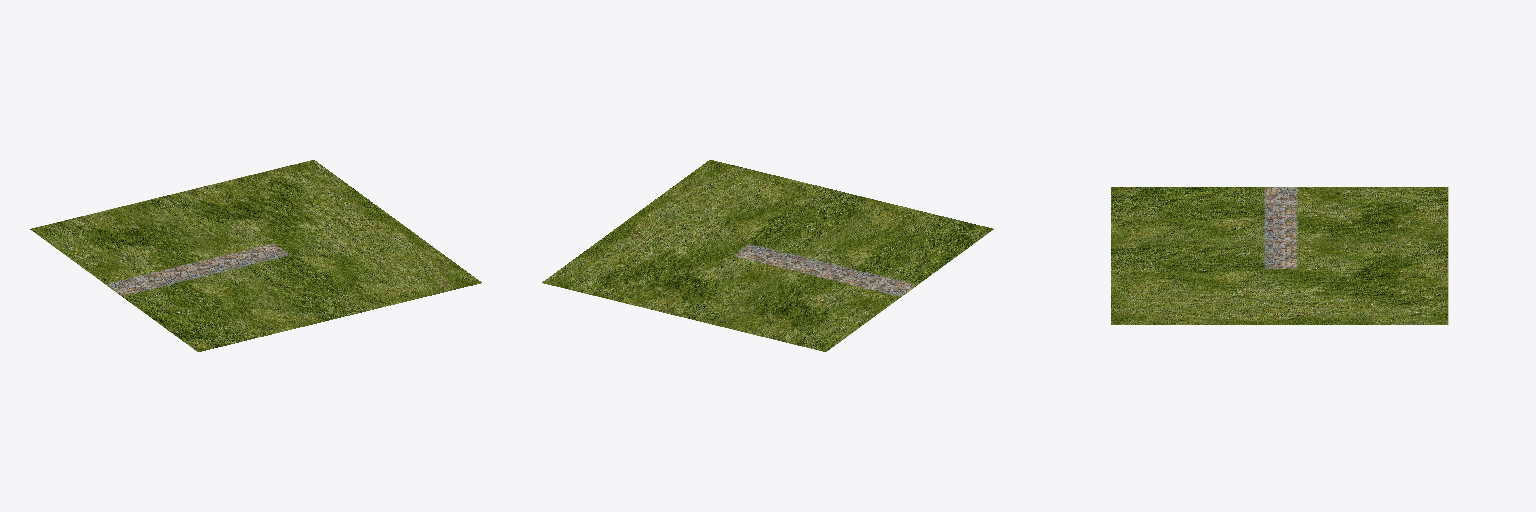
3 views of the same model, side by side, from view 1: azimuth 30°, elevation 25°; view 2: azimuth 150°, elevation 25°; view 3: azimuth 270°, elevation 25° (orthographic).
Parts seen in each view (by area): view 1: Floor_Plane001; view 2: Floor_Plane001; view 3: Floor_Plane001.
Boxes of the visible parts, x1,y1,x2,y2 form: Floor_Plane001: [30, 160, 481, 351]; Floor_Plane001: [542, 160, 993, 351]; Floor_Plane001: [1111, 187, 1448, 324].
Size of the model in its own units: 92.21 by 0.0001 by 94.69.
1 materials, 1 textured.